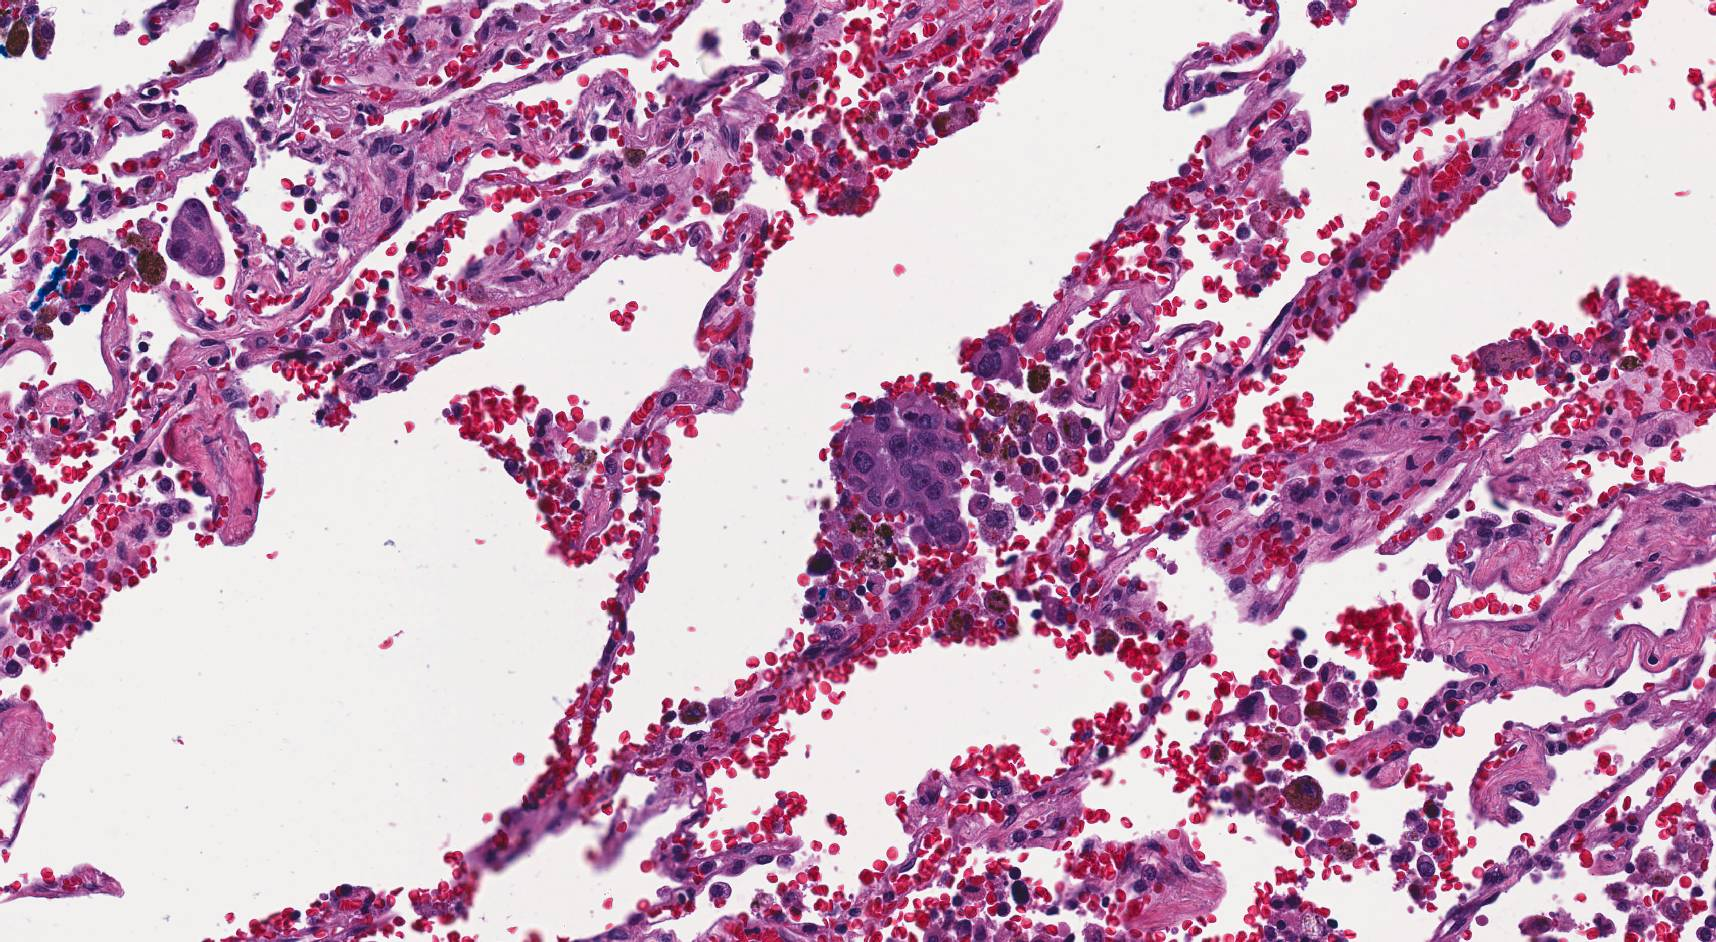stas: (829, 390, 971, 547), (164, 199, 227, 276)
